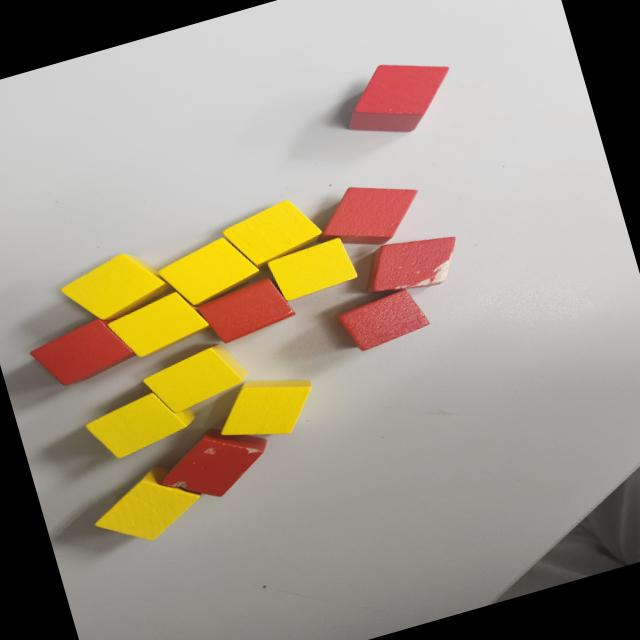broken: (147, 411, 280, 512), (354, 223, 467, 303)
red: (333, 44, 465, 148), (310, 168, 430, 261), (24, 310, 140, 394), (194, 272, 298, 347), (333, 284, 433, 355)
yellow: (82, 454, 211, 556), (54, 240, 179, 330), (208, 362, 324, 452), (80, 380, 200, 464), (151, 230, 265, 314), (138, 338, 254, 418), (102, 282, 214, 364), (217, 192, 327, 274), (265, 235, 360, 302)
